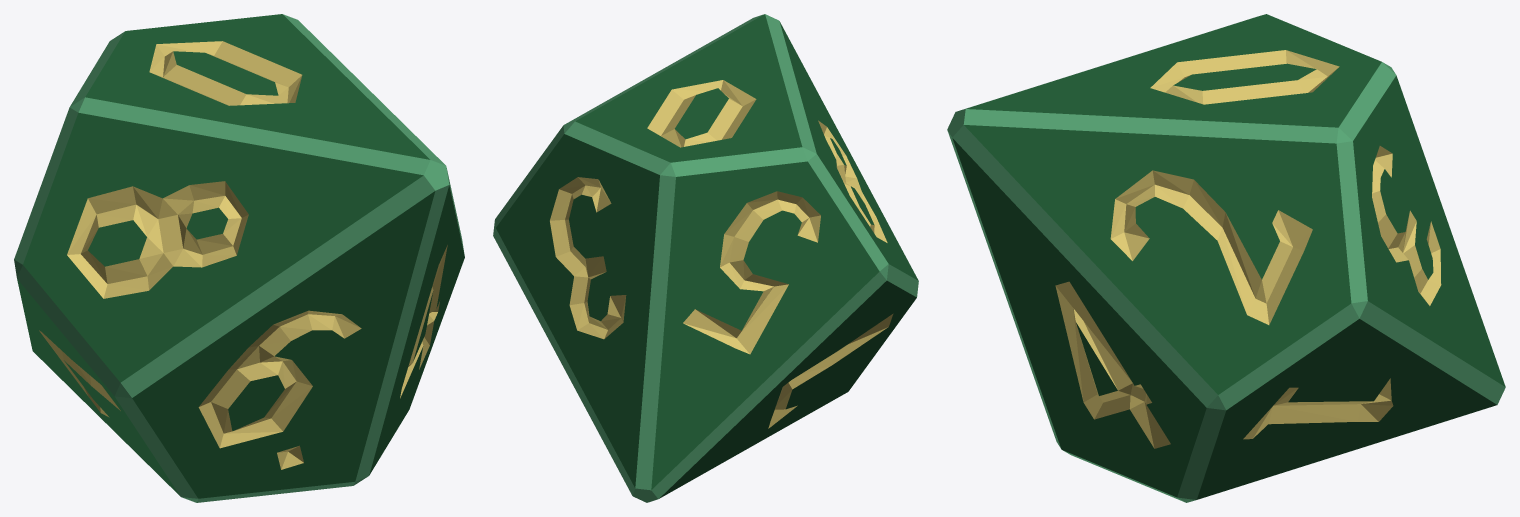
The model's file is d10-ten-sided-die-c3b2d7.glb.
The picture shows the model from 3 angles, left to right: view 1: azimuth 30°, elevation 25°; view 2: azimuth 150°, elevation 25°; view 3: azimuth 270°, elevation 25°; orthographic projection. The views are drawn at different scales.
Parts seen in each view (by area): view 1: resin, numerals; view 2: resin, numerals; view 3: resin, numerals.
Part boxes in pixels (x1,y1,x2,y2): resin: [14, 14, 464, 502]; numerals: [39, 41, 447, 469]; resin: [493, 14, 918, 502]; numerals: [550, 80, 893, 428]; resin: [947, 14, 1505, 502]; numerals: [1055, 50, 1441, 448].
Bounding box in the file's own units: 0.0154 × 0.0121 × 0.0171.
